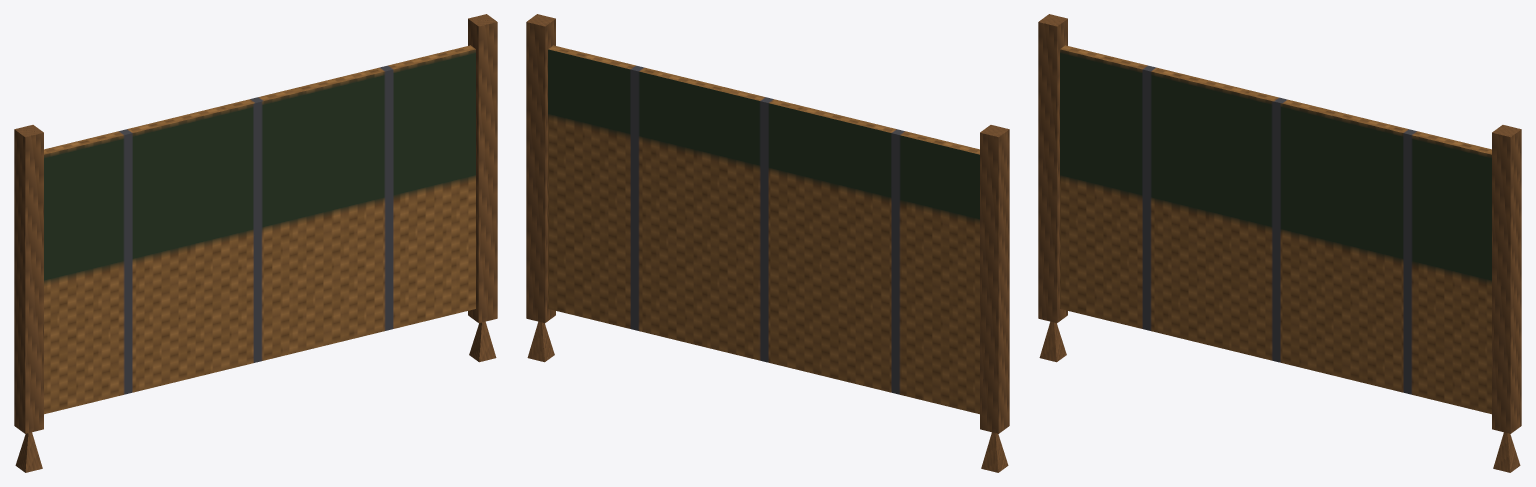
File: snowfence_wood_2m.dae
3 views of the same model, side by side, from view 1: azimuth 30°, elevation 25°; view 2: azimuth 150°, elevation 25°; view 3: azimuth 330°, elevation 25° (orthographic).
Visible parts, largest first — view 1: snowfence_wood_panel, snowfence_wood_post_0, snowfence_wood_post_1, snowfence_wood_tip_0, snowfence_wood_tip_1; view 2: snowfence_wood_panel, snowfence_wood_post_0, snowfence_wood_post_1, snowfence_wood_tip_0, snowfence_wood_tip_1; view 3: snowfence_wood_panel, snowfence_wood_post_1, snowfence_wood_post_0, snowfence_wood_tip_1, snowfence_wood_tip_0.
Boxes of the visible parts, x1,y1,x2,y2 form: snowfence_wood_panel: [44, 45, 475, 414]; snowfence_wood_post_0: [14, 125, 43, 433]; snowfence_wood_post_1: [468, 14, 497, 322]; snowfence_wood_tip_0: [15, 432, 42, 472]; snowfence_wood_tip_1: [469, 321, 496, 362]; snowfence_wood_panel: [548, 45, 979, 414]; snowfence_wood_post_0: [980, 125, 1009, 433]; snowfence_wood_post_1: [526, 14, 555, 322]; snowfence_wood_tip_0: [981, 432, 1008, 472]; snowfence_wood_tip_1: [527, 321, 554, 362]; snowfence_wood_panel: [1060, 45, 1491, 414]; snowfence_wood_post_1: [1492, 125, 1521, 433]; snowfence_wood_post_0: [1038, 14, 1067, 322]; snowfence_wood_tip_1: [1493, 432, 1520, 472]; snowfence_wood_tip_0: [1039, 321, 1066, 362].
Size of the model in its own units: 2 by 0.08 by 1.36.
Materials: 3 (3 with a texture image).
